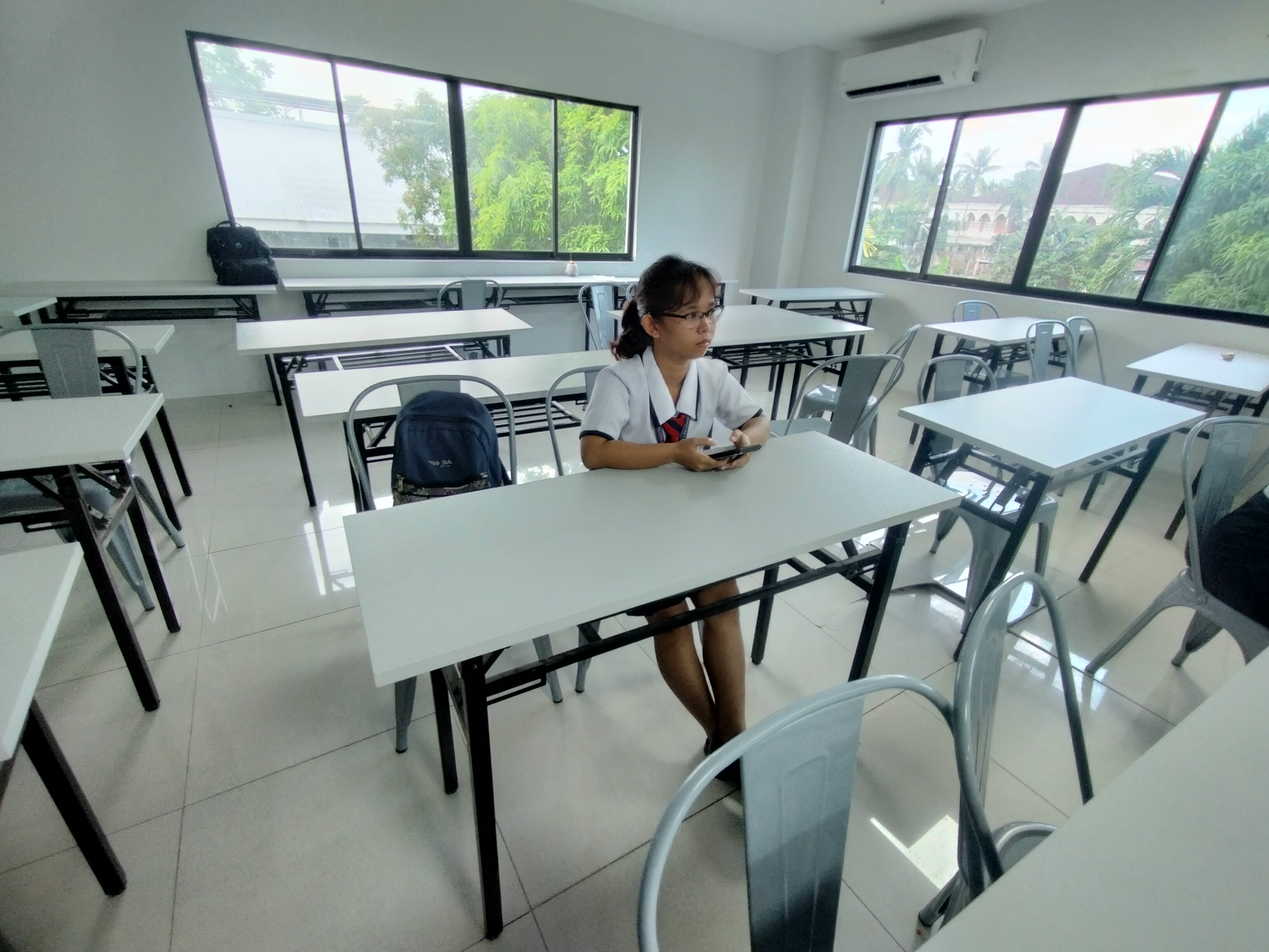with-student: (333, 236, 963, 714)
